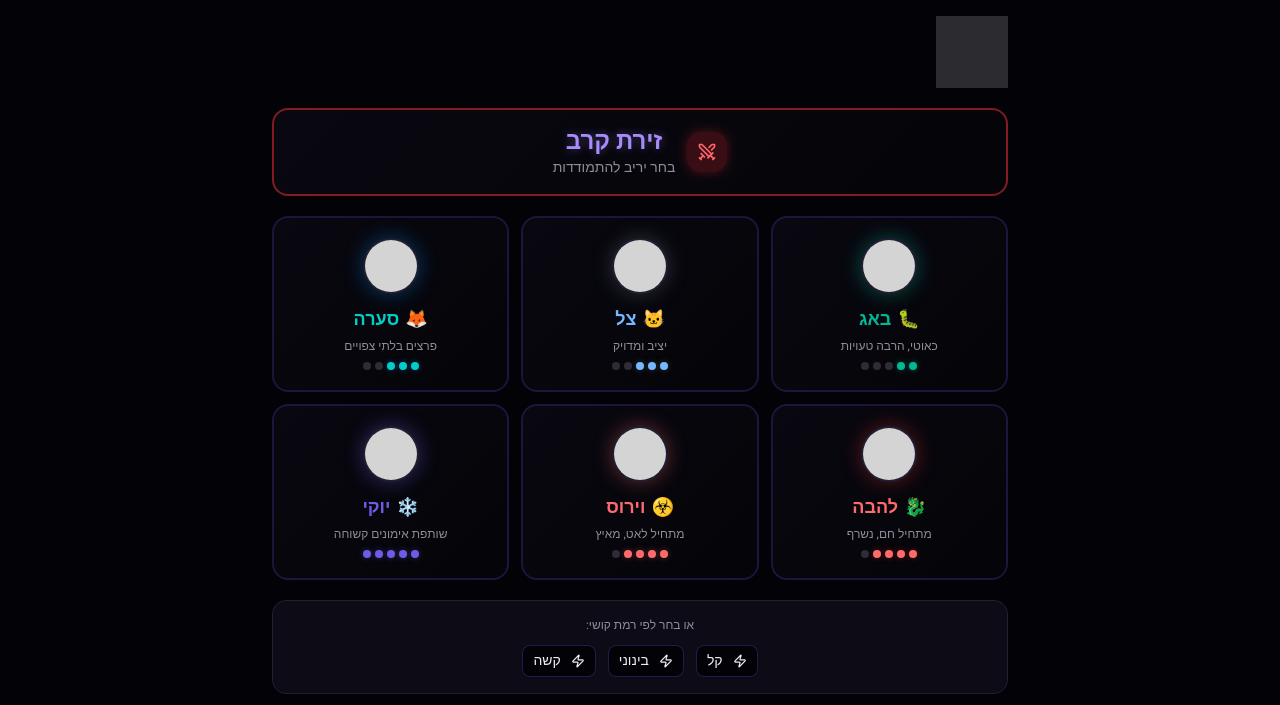
BattleArena › enters battle phase after countdown completes
What coordinates should you click on to do the following:
click the button with test id "difficulty-easy"
I would click on:
 (727, 661)
Its box is [696, 645, 758, 677].
Wait 4000 ms
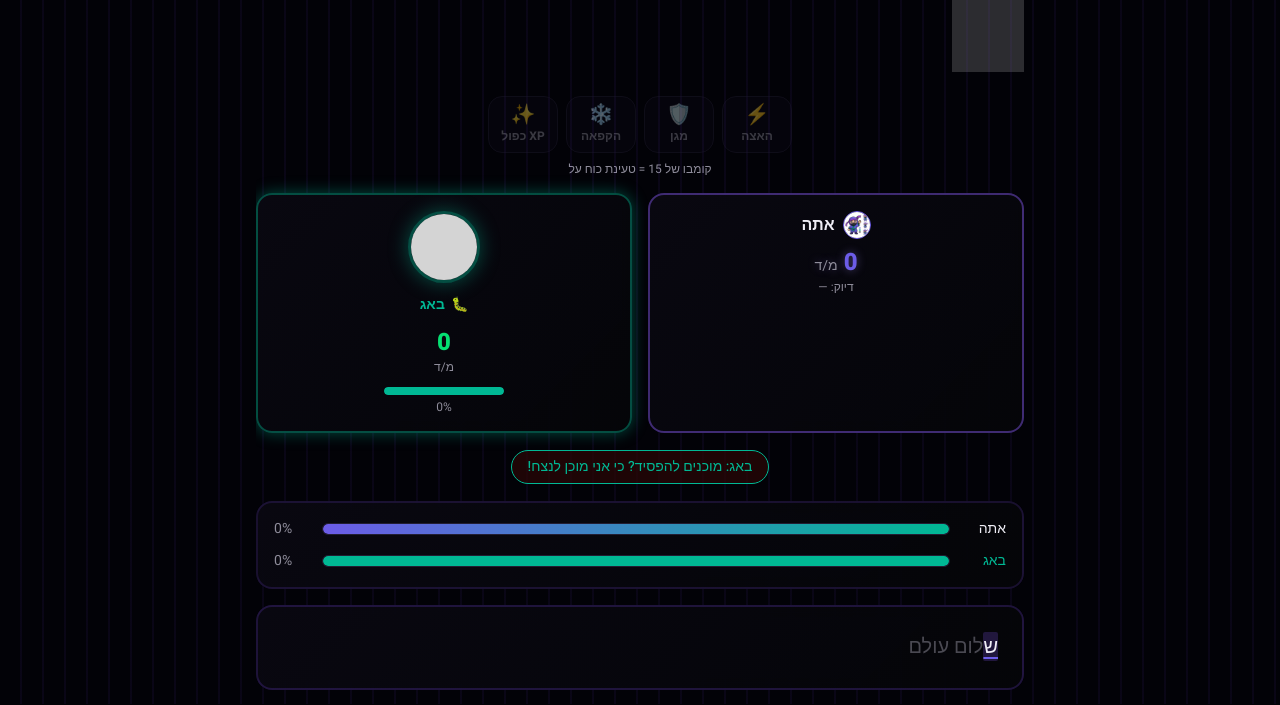
Expected: the element with test id "battle-text-area" is shown, [256, 605, 1024, 690]
